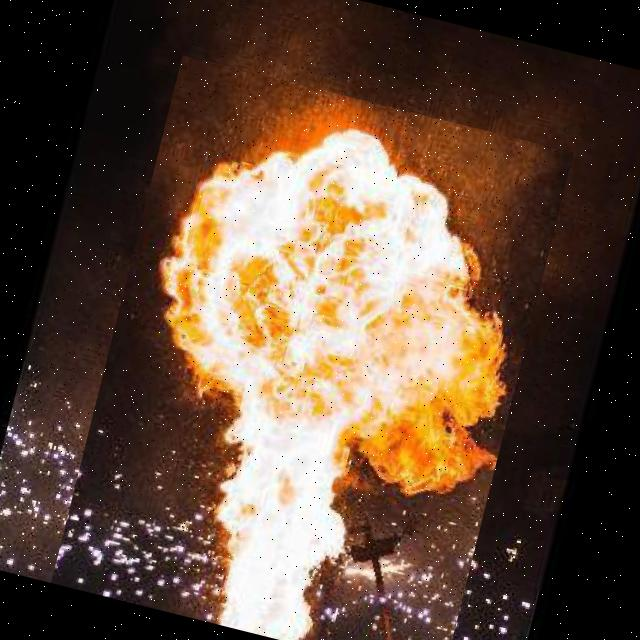fire: (50, 55, 573, 640)
